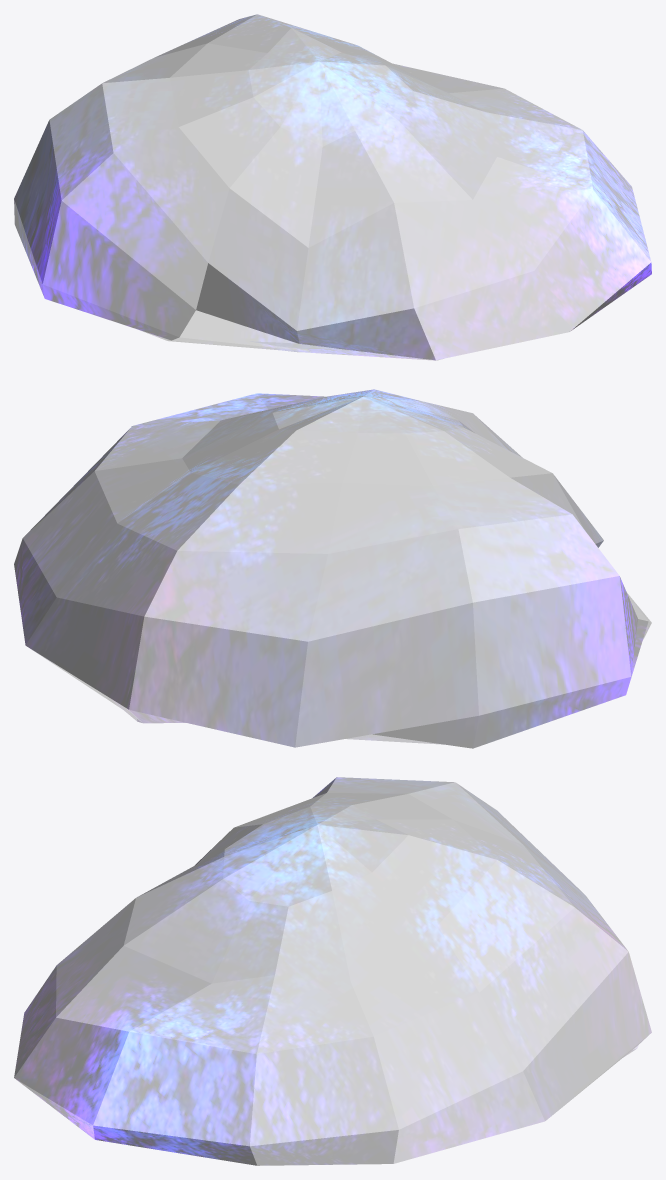
Rendered from stone.glb.
3 renders of one model, top to bottom at view 1: azimuth 30°, elevation 25°; view 2: azimuth 150°, elevation 25°; view 3: azimuth 270°, elevation 25°, orthographic. The views are drawn at different scales.
Parts seen in each view (by area): view 1: Sphere; view 2: Sphere; view 3: Sphere.
Boxes of the visible parts, x1,y1,x2,y2 form: Sphere: (14, 14, 651, 360); Sphere: (14, 389, 651, 748); Sphere: (14, 777, 651, 1165).
Size of the model in its own units: 1.71 by 0.5814 by 1.68.
